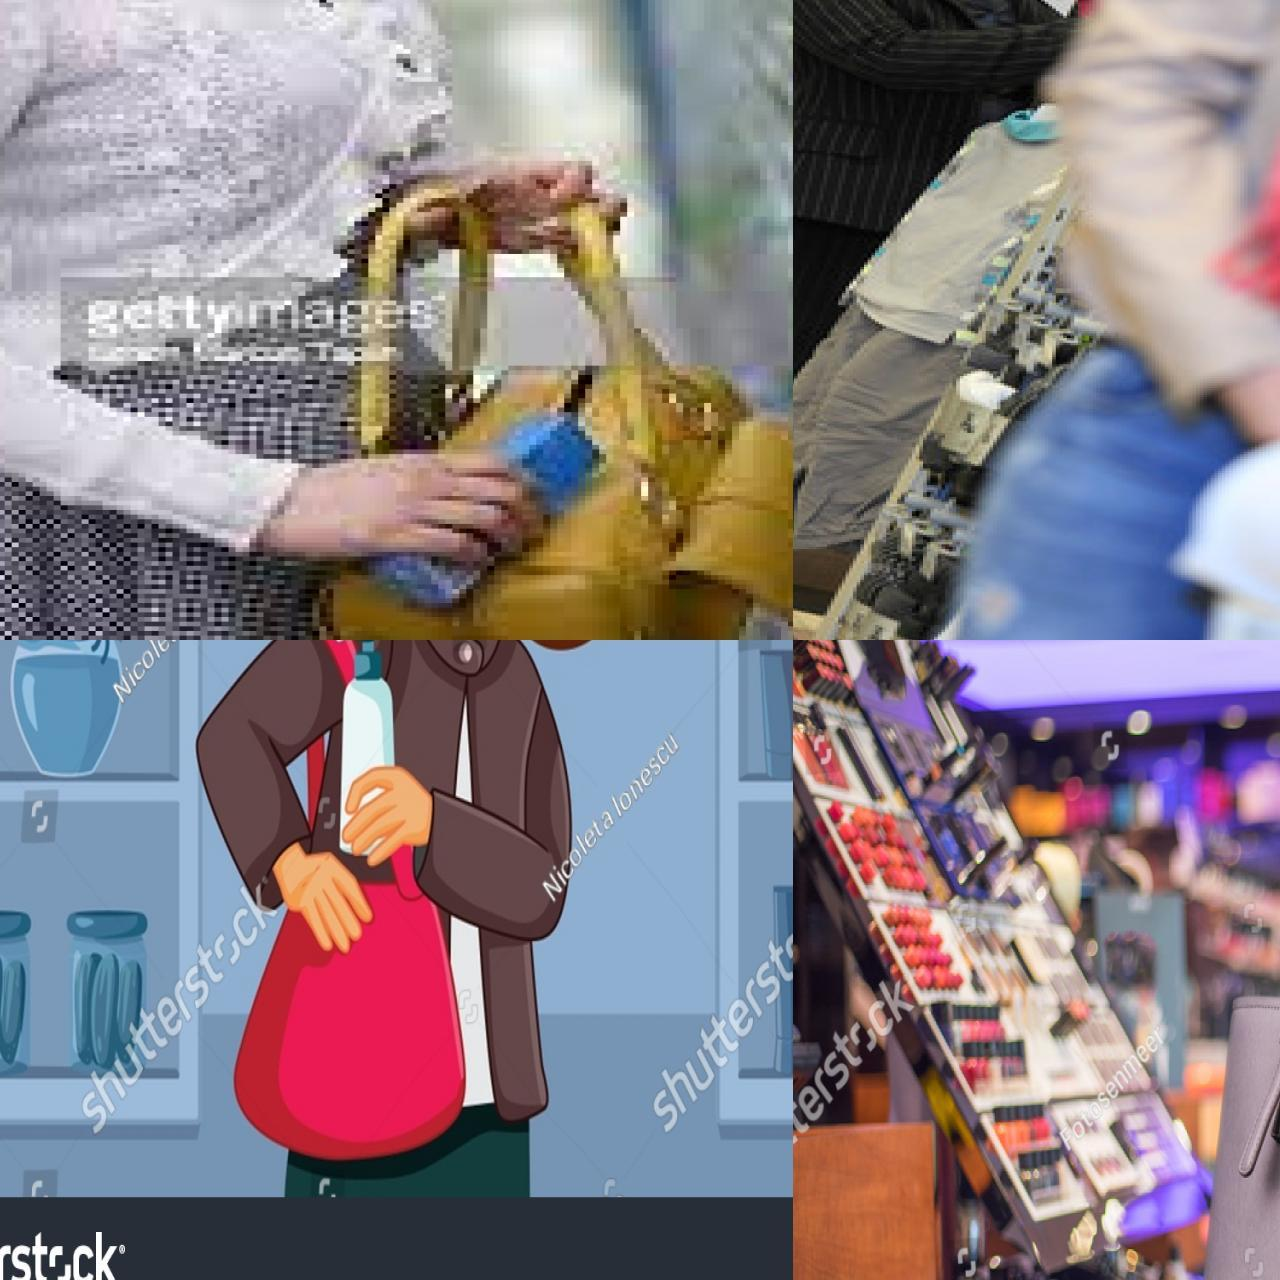Shoplifting: (25, 105, 794, 640), (225, 640, 651, 1203), (1094, 640, 1280, 1280), (1141, 0, 1280, 640)
